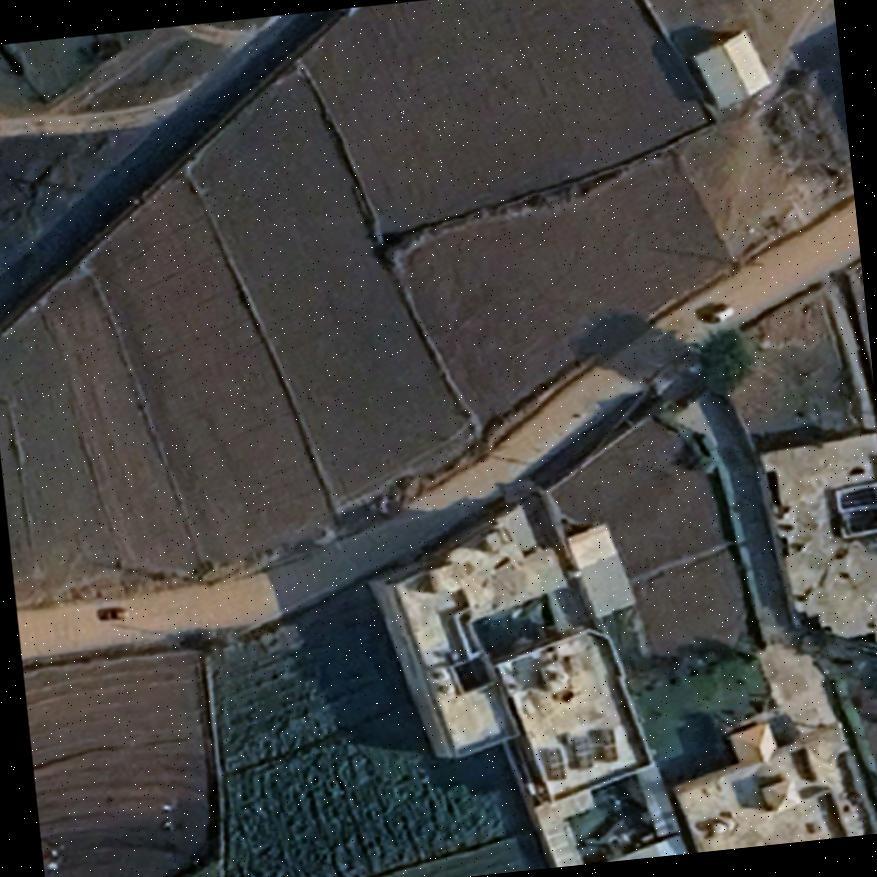Solarpanel: (832, 483, 877, 536), (566, 731, 598, 773), (537, 742, 568, 784), (598, 727, 617, 761)
